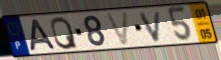5: (165, 6, 194, 44)
8: (84, 15, 108, 48)
A: (28, 18, 58, 53)
Q: (50, 15, 80, 51)
V: (103, 10, 130, 48), (138, 10, 163, 44)
